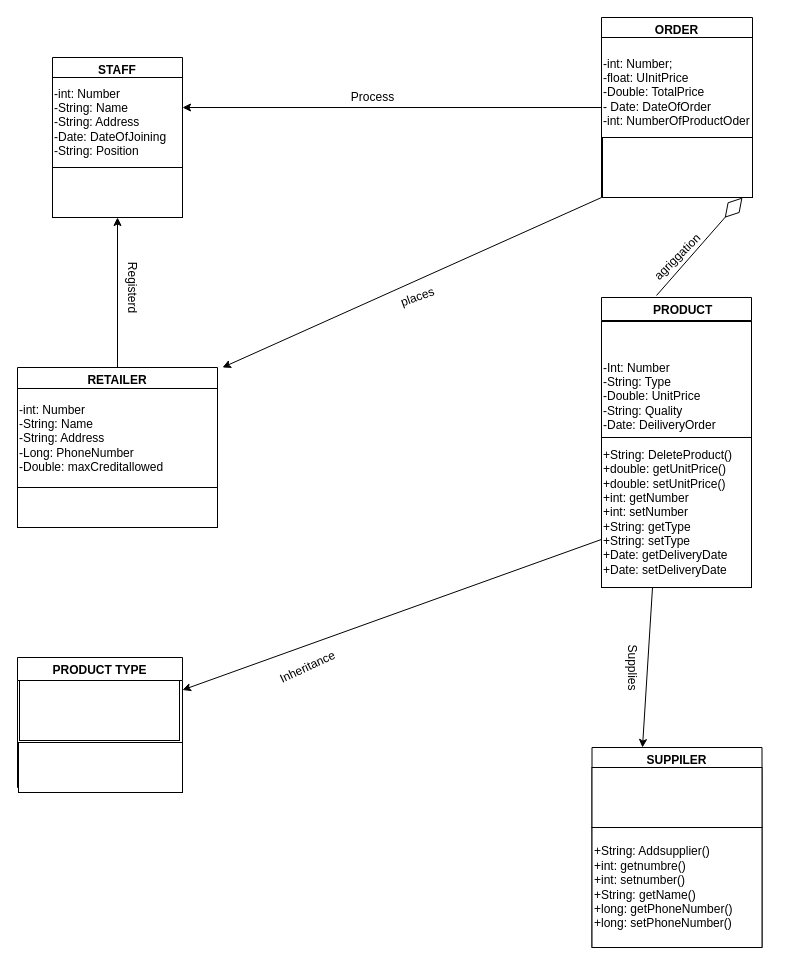
Image size: 786x965. Some labels were removed from this diagram. Here are the shapes that lost their labels. From the top down, the centre of each, then its label:
At point 677,167: "+String: UpdateOrder()".
At point 117,192: "+String: AddStaff()".
At point 117,507: "+String: Addretailer()".
At point 99,710: "-int: Number -String:name".
At point 100,767: "+String: Updateproducttype()".
At point 676,797: "-int: Number -String:Name -String: Address -Long: PhoneNumber".
